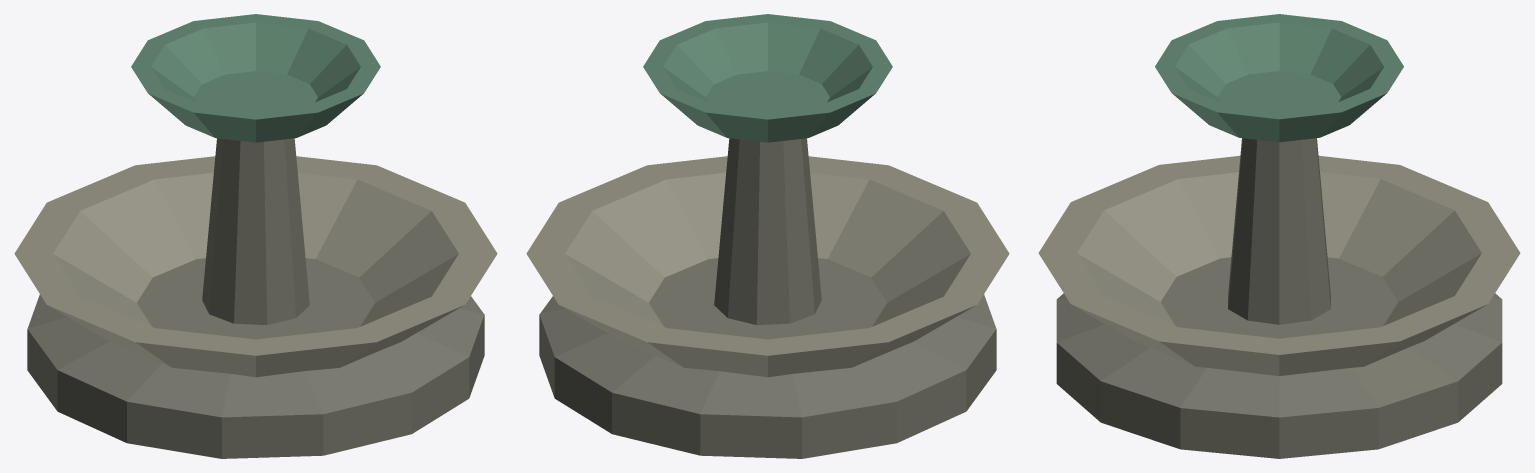
Rendered from tiered-fountain.glb.
3 renders of one model, left to right at view 1: azimuth 30°, elevation 25°; view 2: azimuth 150°, elevation 25°; view 3: azimuth 270°, elevation 25°, orthographic.
Parts seen in each view (by area): view 1: tiered-fountain__body; view 2: tiered-fountain__body; view 3: tiered-fountain__body.
Part boxes in pixels (x1=…): tiered-fountain__body: x1=14, y1=14, x2=497, y2=458; tiered-fountain__body: x1=526, y1=14, x2=1009, y2=458; tiered-fountain__body: x1=1038, y1=14, x2=1520, y2=458.
Size of the model in its own units: 1.16 by 0.785 by 1.16.
